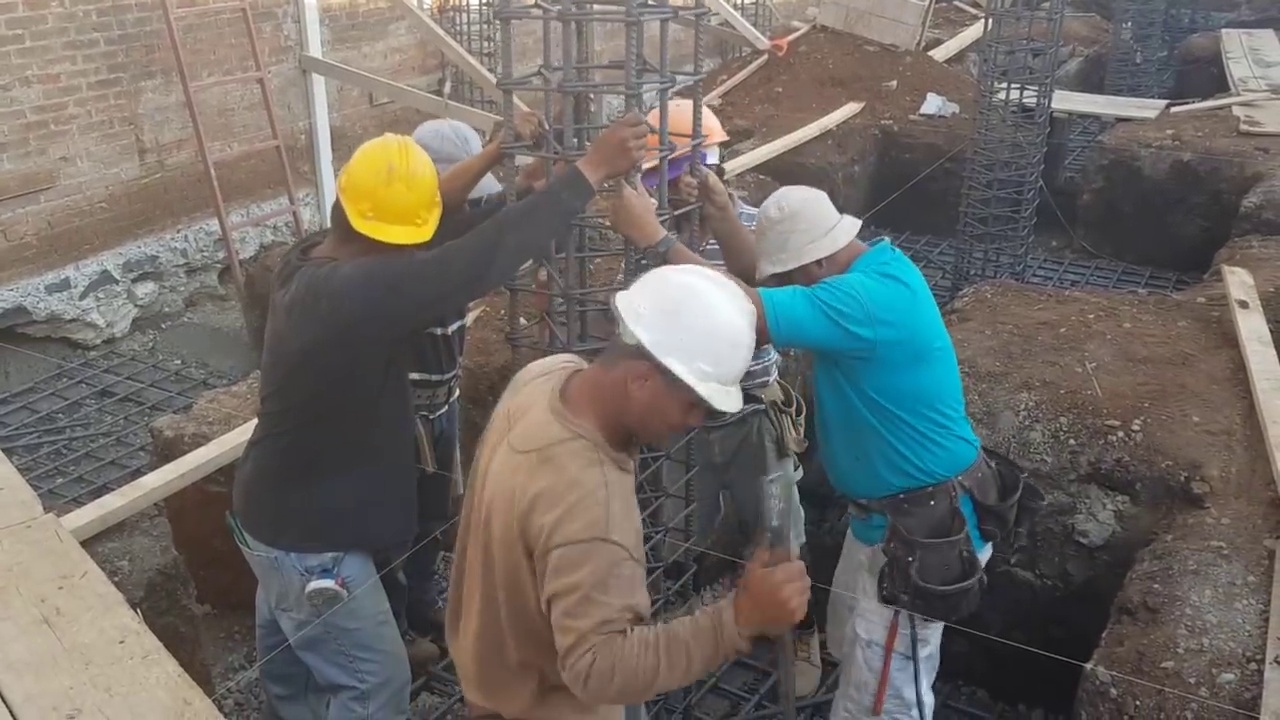helmet: (617, 267, 766, 419), (331, 134, 442, 244), (631, 95, 730, 172)
helmet-off: (747, 185, 868, 300), (404, 116, 487, 213)
helmet-on: (551, 264, 770, 467), (297, 134, 444, 262), (633, 89, 734, 218)
person: (236, 111, 656, 686), (677, 165, 997, 720), (448, 262, 811, 720), (382, 110, 507, 648), (623, 88, 766, 260)
